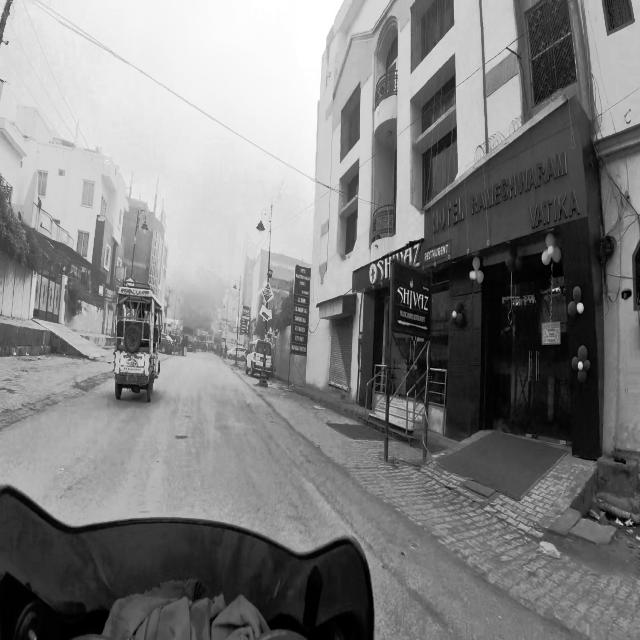Toto: (108, 280, 166, 411)
